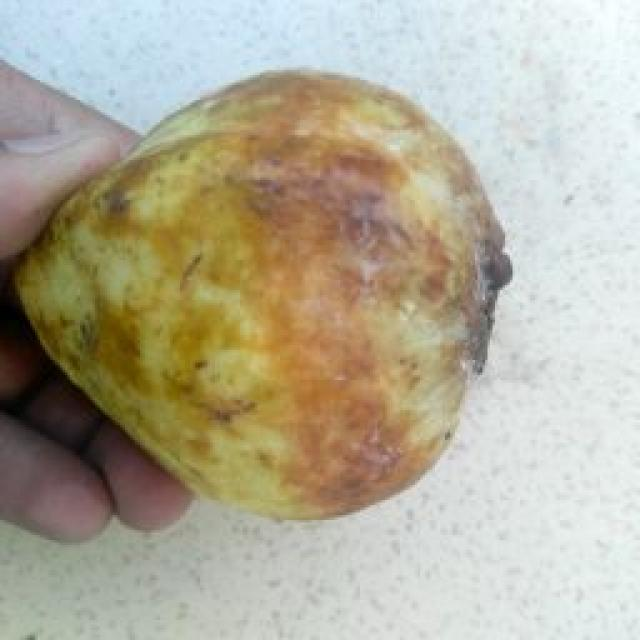Bad_Guava: (15, 71, 511, 518)
